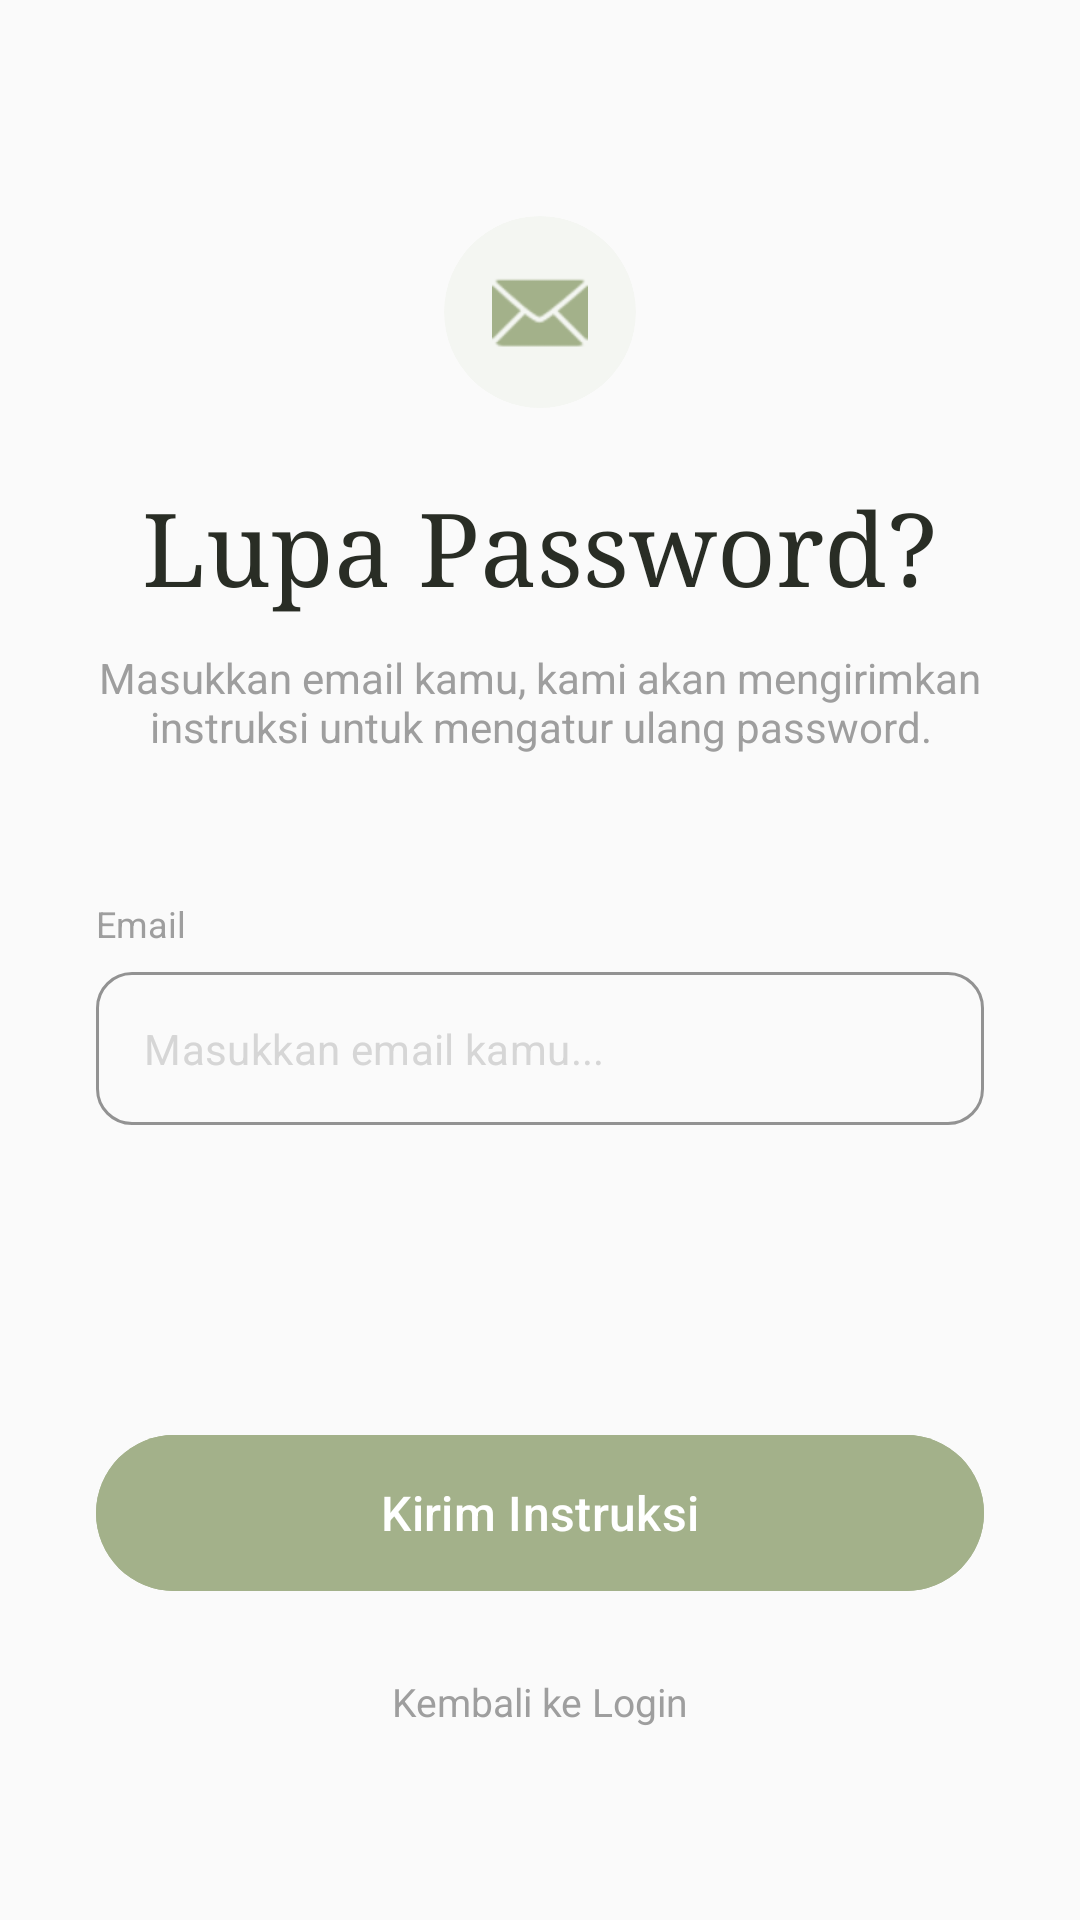

Icons on this 1080w x 1920h Android screen, each with the point to tap as (x=x, y=y):
email: (x=540, y=313)
